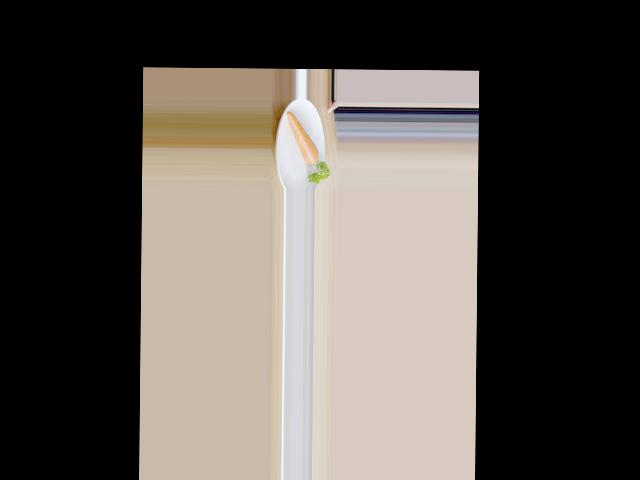carrot: (285, 108, 322, 170)
